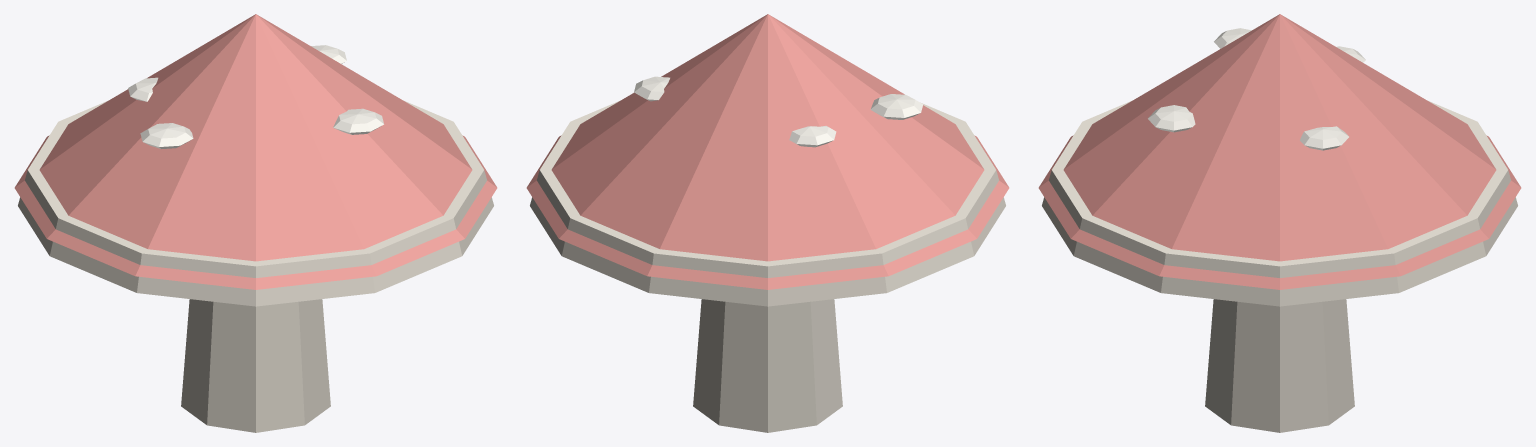
File: seta.glb
3 views of the same model, side by side, from view 1: azimuth 30°, elevation 25°; view 2: azimuth 150°, elevation 25°; view 3: azimuth 270°, elevation 25° (orthographic).
Visible parts, largest first — view 1: seta; view 2: seta; view 3: seta.
Boxes of the visible parts, x1,y1,x2,y2 form: seta: (14, 14, 497, 432); seta: (526, 14, 1009, 432); seta: (1038, 14, 1521, 432).
Bounding box in the file's own units: 1.46 × 1.29 × 1.46.
